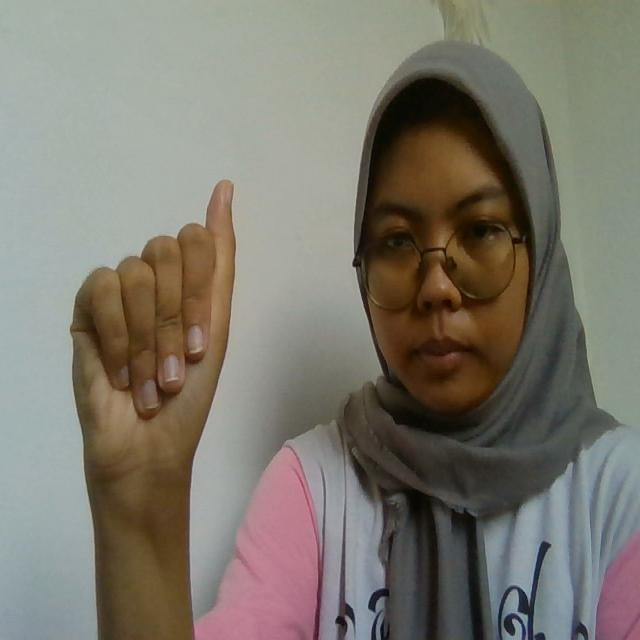A: (69, 178, 238, 459)
